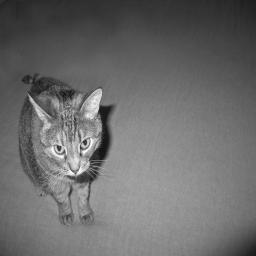catnose: (70, 168, 79, 175)
